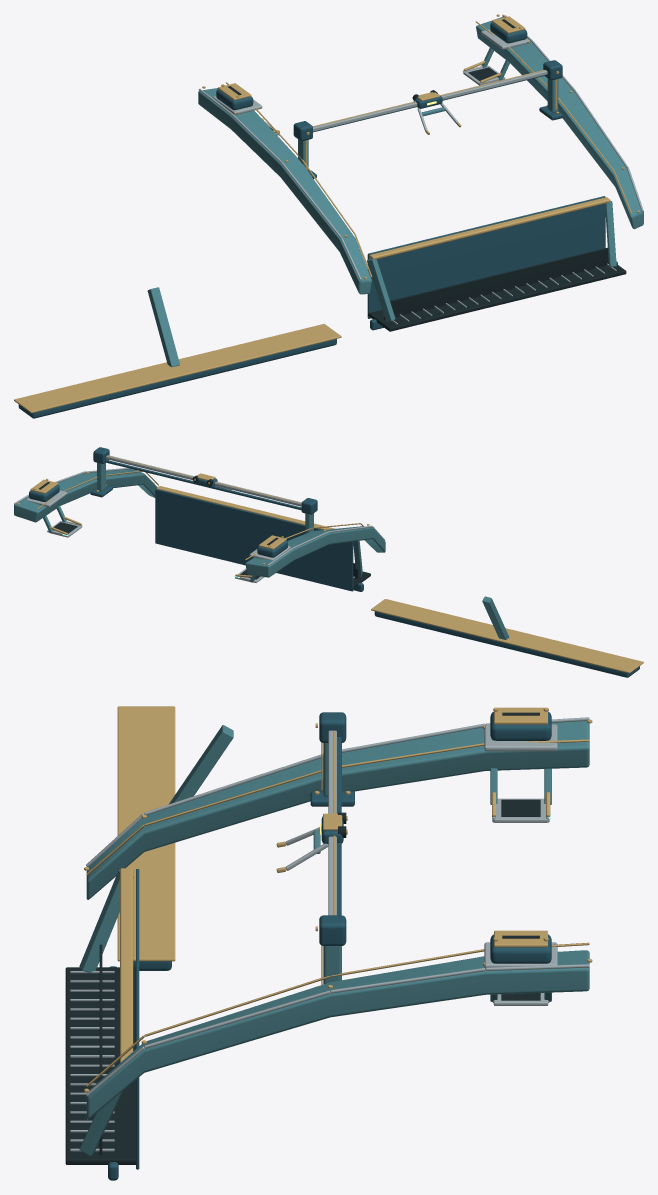
The model's file is whale-cabinet.glb.
3 renders of one model, top to bottom at view 1: azimuth 30°, elevation 25°; view 2: azimuth 150°, elevation 25°; view 3: azimuth 270°, elevation 25°, orthographic. The views are drawn at different scales.
Parts seen in each view (by area): view 1: FrontCoinCollector_Deep marine enamel, WhaleCabinetMechanisms_Cast teal housings, FrontCoinCollector_Rubber / channel interior, Terminal brass footing, Terminal cast plinth, Mouth brass sill, FrontCoinCollector_Cast teal housings, WhaleCabinetMechanisms_Brushed nickel, SpecialFeedGantry_Deep marine enamel, Linear bearing rail, Terminal rear support, WhaleCabinetMechanisms_Satin champagne brass (+1 smaller); view 2: FrontCoinCollector_Deep marine enamel, WhaleCabinetMechanisms_Cast teal housings, Terminal brass footing, Terminal cast plinth, SpecialFeedGantry_Deep marine enamel, Linear bearing rail, Mouth brass sill, WhaleCabinetMechanisms_Brushed nickel, Terminal rear support, Feed_right_Brushed nickel, SpecialFeedGantry_Cast teal housings, WhaleCabinetMechanisms_Satin champagne brass (+1 smaller); view 3: WhaleCabinetMechanisms_Cast teal housings, Terminal brass footing, FrontCoinCollector_Rubber / channel interior, WhaleCabinetMechanisms_Brushed nickel, WhaleCabinetMechanisms_Satin champagne brass, SpecialFeedGantry_Deep marine enamel, Mouth brass sill, FrontCoinCollector_Cast teal housings, FrontCoinCollector_Brushed nickel, Feed_left_Brushed nickel, Terminal rear support, Linear bearing rail (+9 smaller).
Part boxes in pixels (x1,y1,x2,y2): FrontCoinCollector_Deep marine enamel: [367, 196, 617, 330]; WhaleCabinetMechanisms_Cast teal housings: [198, 17, 643, 294]; FrontCoinCollector_Rubber / channel interior: [368, 247, 626, 331]; Terminal brass footing: [14, 324, 341, 413]; Terminal cast plinth: [18, 339, 336, 418]; Mouth brass sill: [369, 197, 610, 259]; FrontCoinCollector_Cast teal housings: [367, 201, 616, 321]; WhaleCabinetMechanisms_Brushed nickel: [198, 14, 643, 280]; SpecialFeedGantry_Deep marine enamel: [293, 60, 563, 178]; Linear bearing rail: [313, 70, 547, 131]; Terminal rear support: [147, 287, 179, 367]; WhaleCabinetMechanisms_Satin champagne brass: [202, 14, 639, 279]; FrontCoinCollector_Deep marine enamel: [155, 489, 363, 591]; WhaleCabinetMechanisms_Cast teal housings: [14, 469, 385, 577]; Terminal brass footing: [371, 599, 643, 673]; Terminal cast plinth: [374, 611, 639, 677]; SpecialFeedGantry_Deep marine enamel: [90, 447, 317, 514]; Linear bearing rail: [106, 455, 301, 506]; Mouth brass sill: [156, 486, 335, 529]; WhaleCabinetMechanisms_Brushed nickel: [14, 468, 385, 565]; Terminal rear support: [482, 596, 509, 639]; Feed_right_Brushed nickel: [26, 490, 82, 537]; SpecialFeedGantry_Cast teal housings: [97, 462, 313, 533]; WhaleCabinetMechanisms_Satin champagne brass: [17, 471, 369, 564]; WhaleCabinetMechanisms_Cast teal housings: [86, 721, 589, 1119]; Terminal brass footing: [117, 706, 175, 961]; FrontCoinCollector_Rubber / channel interior: [65, 944, 136, 1164]; WhaleCabinetMechanisms_Brushed nickel: [86, 717, 589, 1096]; WhaleCabinetMechanisms_Satin champagne brass: [84, 719, 592, 1092]; SpecialFeedGantry_Deep marine enamel: [310, 712, 354, 945]; Mouth brass sill: [120, 868, 133, 1062]; FrontCoinCollector_Cast teal housings: [79, 870, 133, 1155]; FrontCoinCollector_Brushed nickel: [70, 971, 114, 1151]; Feed_left_Brushed nickel: [484, 724, 557, 822]; Terminal rear support: [169, 725, 233, 804]; Linear bearing rail: [328, 730, 336, 915].
Bounding box in the file's own units: 26.72 × 6.96 × 11.88.
